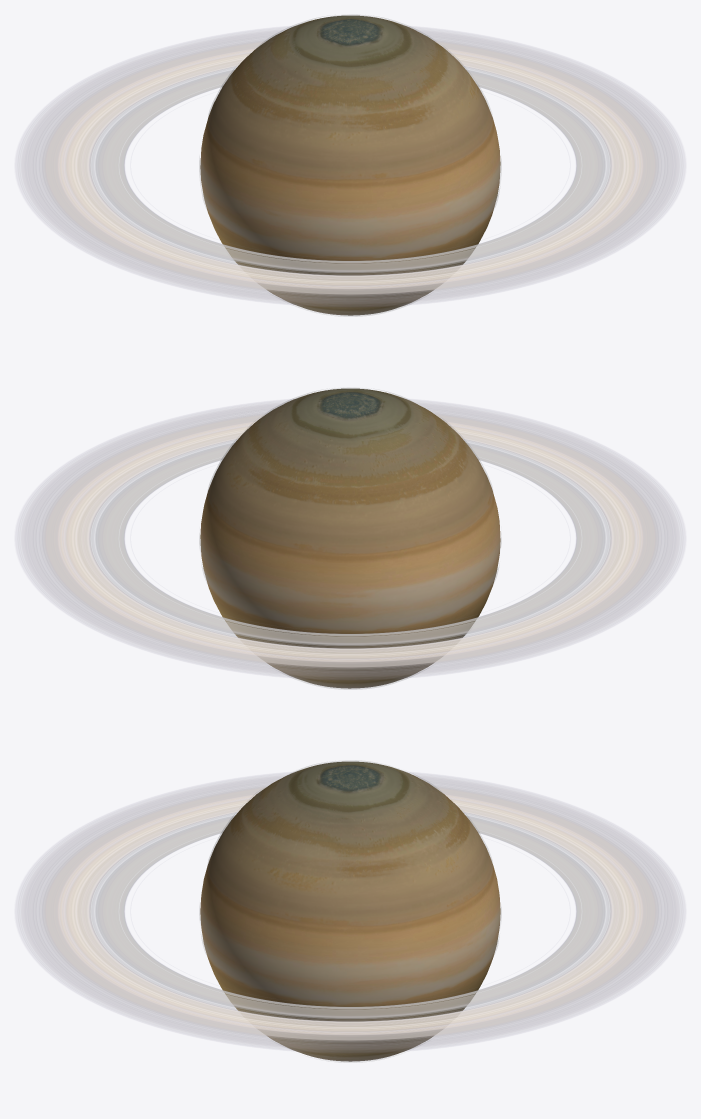
File: Saturn.glb
3 views of the same model, one above another, from view 1: azimuth 30°, elevation 25°; view 2: azimuth 150°, elevation 25°; view 3: azimuth 270°, elevation 25° (orthographic).
Parts seen in each view (by area): view 1: Saturn Rings, Saturn_Material #50_0, Saturn Clouds; view 2: Saturn Rings, Saturn_Material #50_0, Saturn Clouds; view 3: Saturn Rings, Saturn_Material #50_0, Saturn Clouds.
Part boxes in pixels (box(x1,y1,x2,y2)): Saturn Rings: box(15, 27, 685, 306); Saturn_Material #50_0: box(200, 15, 500, 315); Saturn Clouds: box(199, 15, 501, 316); Saturn Rings: box(15, 399, 685, 679); Saturn_Material #50_0: box(200, 388, 500, 688); Saturn Clouds: box(199, 388, 501, 689); Saturn Rings: box(15, 772, 685, 1052); Saturn_Material #50_0: box(200, 761, 500, 1061); Saturn Clouds: box(199, 760, 501, 1062).
Bounding box in the file's own units: 4.64 × 2.52 × 4.64.
3 materials, 3 textured.
